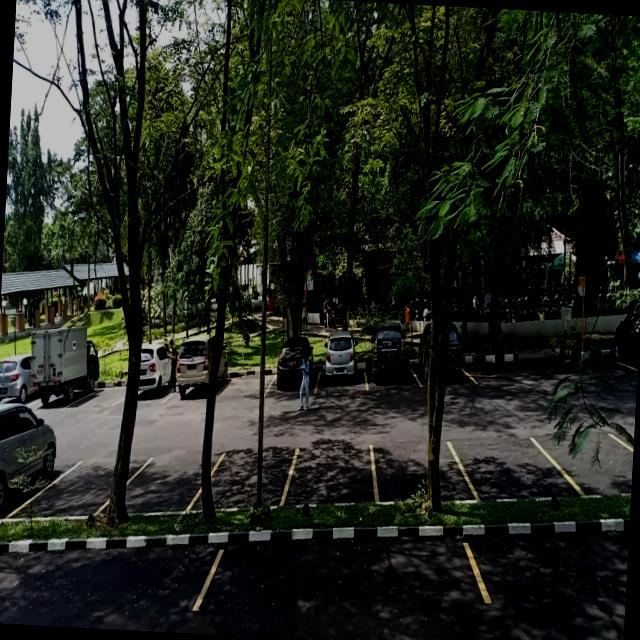empty: (206, 529, 479, 626), (0, 534, 215, 609), (462, 433, 560, 503), (371, 438, 464, 508), (288, 442, 376, 511), (212, 445, 294, 515), (126, 454, 203, 519), (48, 456, 117, 520), (221, 358, 276, 402), (83, 378, 126, 412)
occupied: (0, 420, 57, 521), (170, 347, 228, 406), (366, 338, 420, 392), (315, 338, 370, 391)
